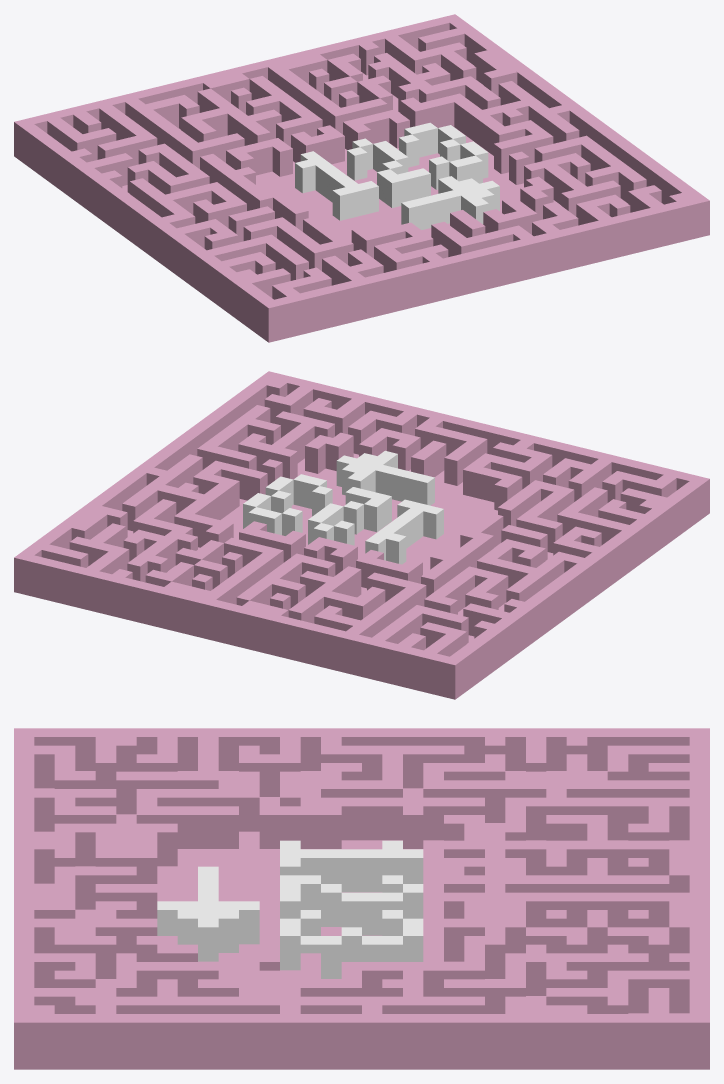
Rendered from map_2.fbx.
3 views of the same model, one above another, from view 1: azimuth 30°, elevation 25°; view 2: azimuth 150°, elevation 25°; view 3: azimuth 270°, elevation 25° (orthographic). The views are drawn at different scales.
Visible parts, largest first — view 1: Cube.002; view 2: Cube.002; view 3: Cube.002.
Part boxes in pixels (box(x1,y1,x2,y2)): Cube.002: box(14, 14, 709, 342); Cube.002: box(14, 371, 709, 699); Cube.002: box(14, 728, 709, 1069).
Size of the model in its own units: 2133 by 159 by 2133.
